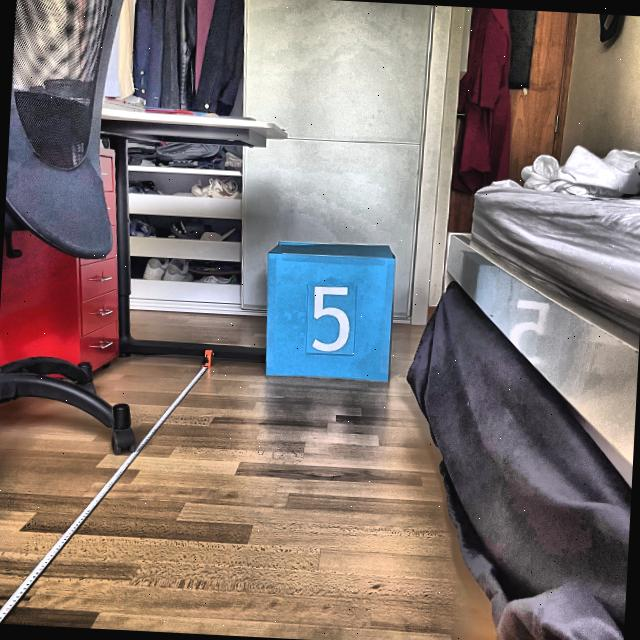blue box: (258, 238, 399, 383)
five: (309, 284, 353, 354)
